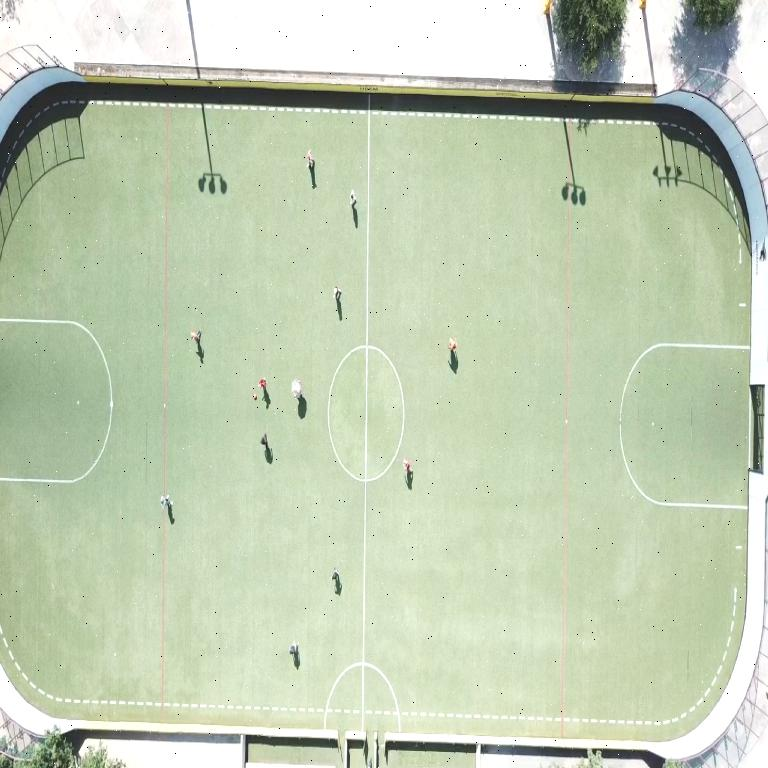AC: (619, 343, 749, 509), (0, 318, 113, 484)
B: (253, 393, 257, 399)
MC: (361, 94, 370, 729)
P: (292, 379, 302, 399), (260, 432, 268, 451), (191, 330, 201, 345), (307, 150, 314, 169), (332, 567, 340, 582), (404, 459, 411, 475), (334, 286, 341, 301), (449, 338, 457, 351), (290, 643, 298, 655), (162, 495, 169, 508), (259, 378, 266, 390), (351, 190, 356, 205)
